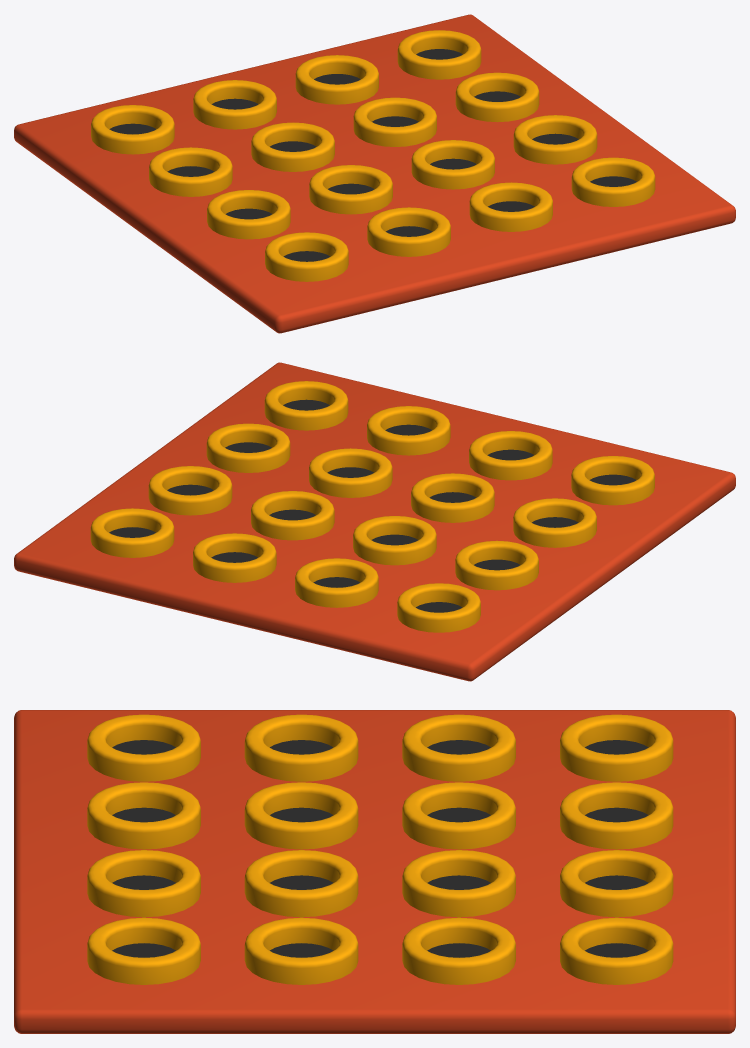
Rendered from FirePlatform_MESH.fbx.
3 renders of one model, top to bottom at view 1: azimuth 30°, elevation 25°; view 2: azimuth 150°, elevation 25°; view 3: azimuth 270°, elevation 25°, orthographic. The views are drawn at different scales.
Visible parts, largest first — view 1: FirePlatform_MESH; view 2: FirePlatform_MESH; view 3: FirePlatform_MESH.
Boxes of the visible parts, bbox=[...] form: FirePlatform_MESH: bbox=[14, 14, 735, 333]; FirePlatform_MESH: bbox=[14, 362, 735, 681]; FirePlatform_MESH: bbox=[14, 710, 735, 1033].
Bounding box in the file's own units: 100 × 7.01 × 100.
